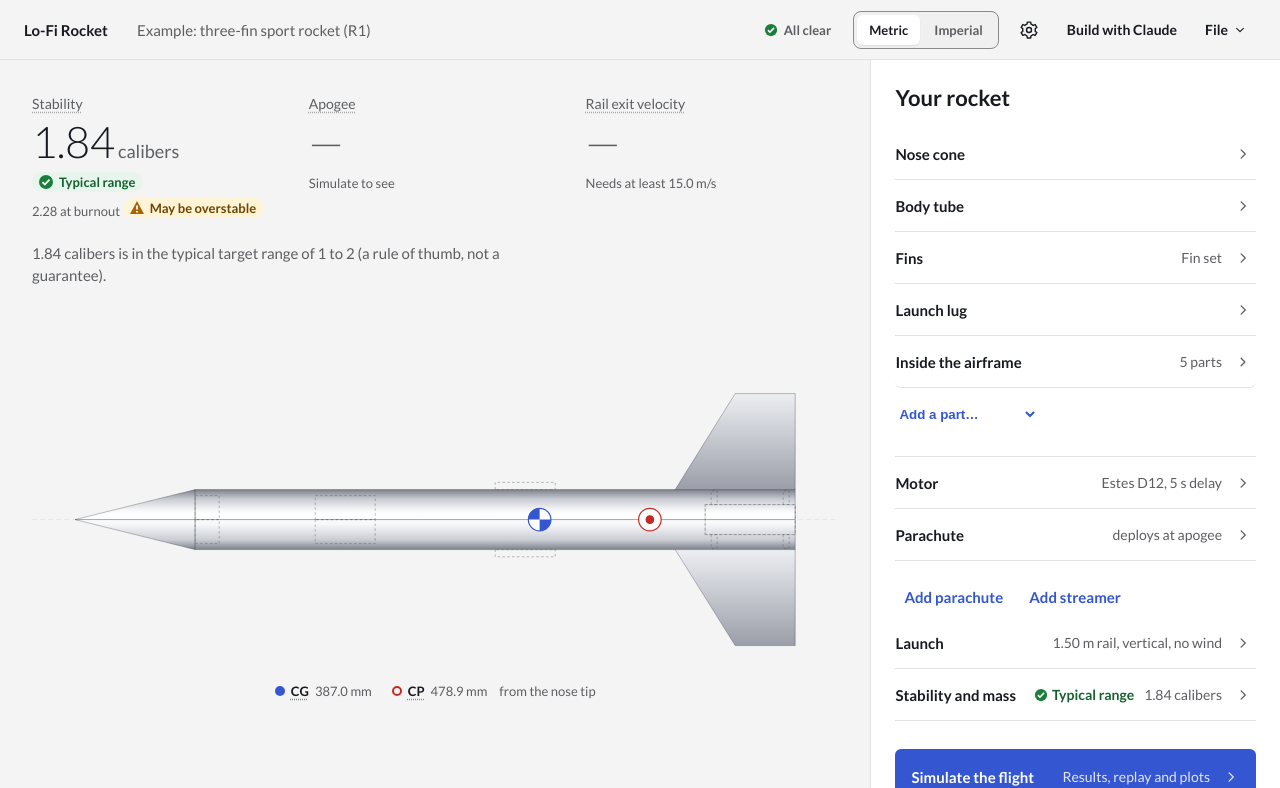
Test: App (plan 0012) › shows the example with the Phase 1 figures and selects components for editing
Expected: the text "1.84" is shown, [32, 115, 115, 167]
Expected: the text "typical target range" is shown, [32, 244, 500, 284]
# The full card is one tap away.
Click the option "Stability and mass Typical range 1.84 calibers". click: coordinates (1076, 695)
box: [895, 669, 1256, 721]
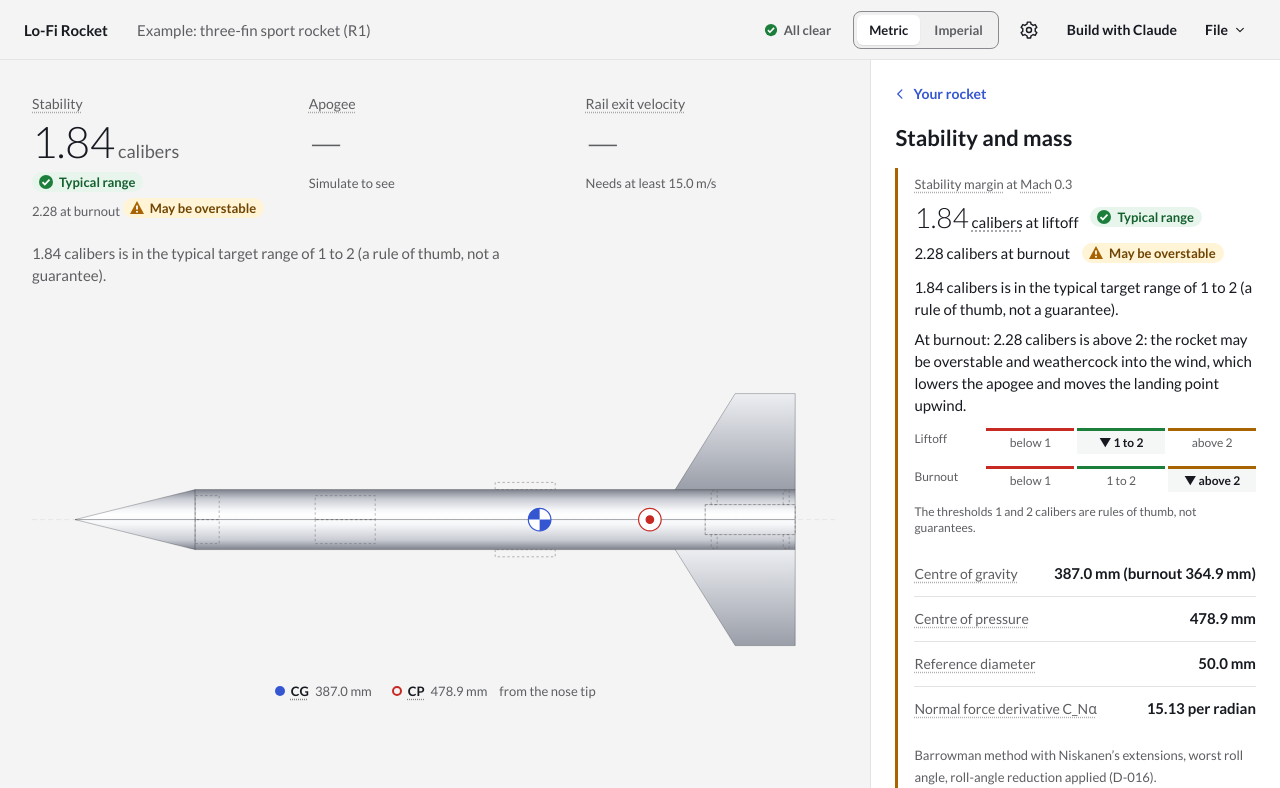
Expected: the text "387.0 mm (burnout 364.9 mm)" is shown, [1054, 562, 1256, 584]
Expected: the text "478.9 mm" is shown, [1190, 607, 1256, 629]
Click the button "Your rocket". click: coordinates (942, 94)
box: [887, 76, 996, 112]
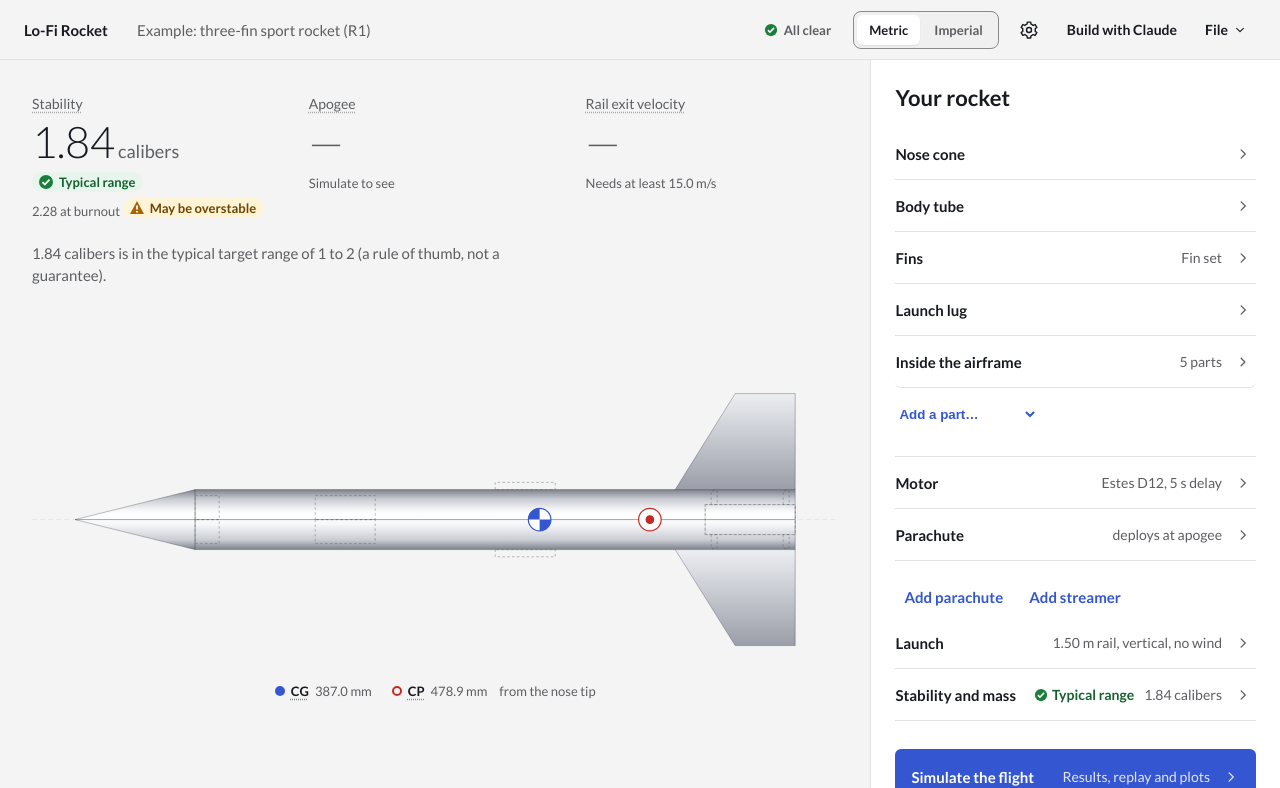
Click the option "Fins Fin set". click: coordinates (1202, 257)
box: [895, 232, 1256, 284]
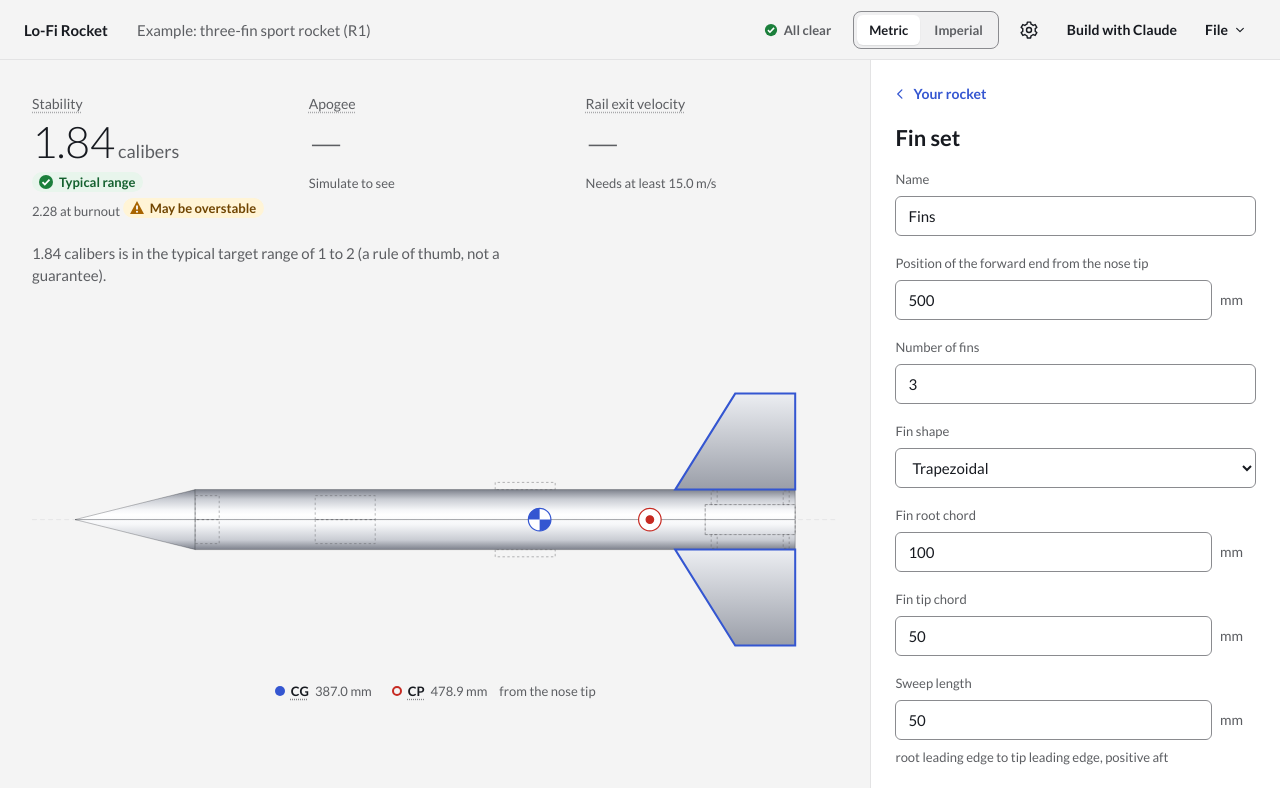
Expected: the field labelled "Fin root chord" holds "100", [895, 532, 1212, 572]
